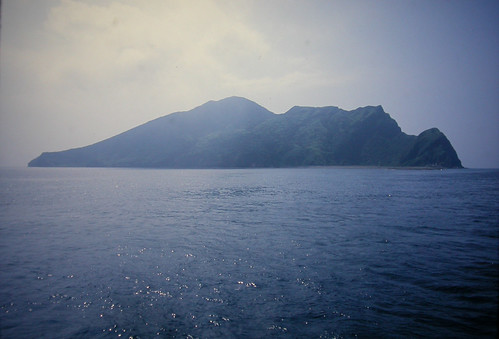turtleIsland: (32, 88, 466, 171)
